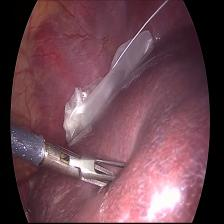Grasper: (51, 142, 131, 188)
Specimen Bag: (62, 16, 152, 147)
